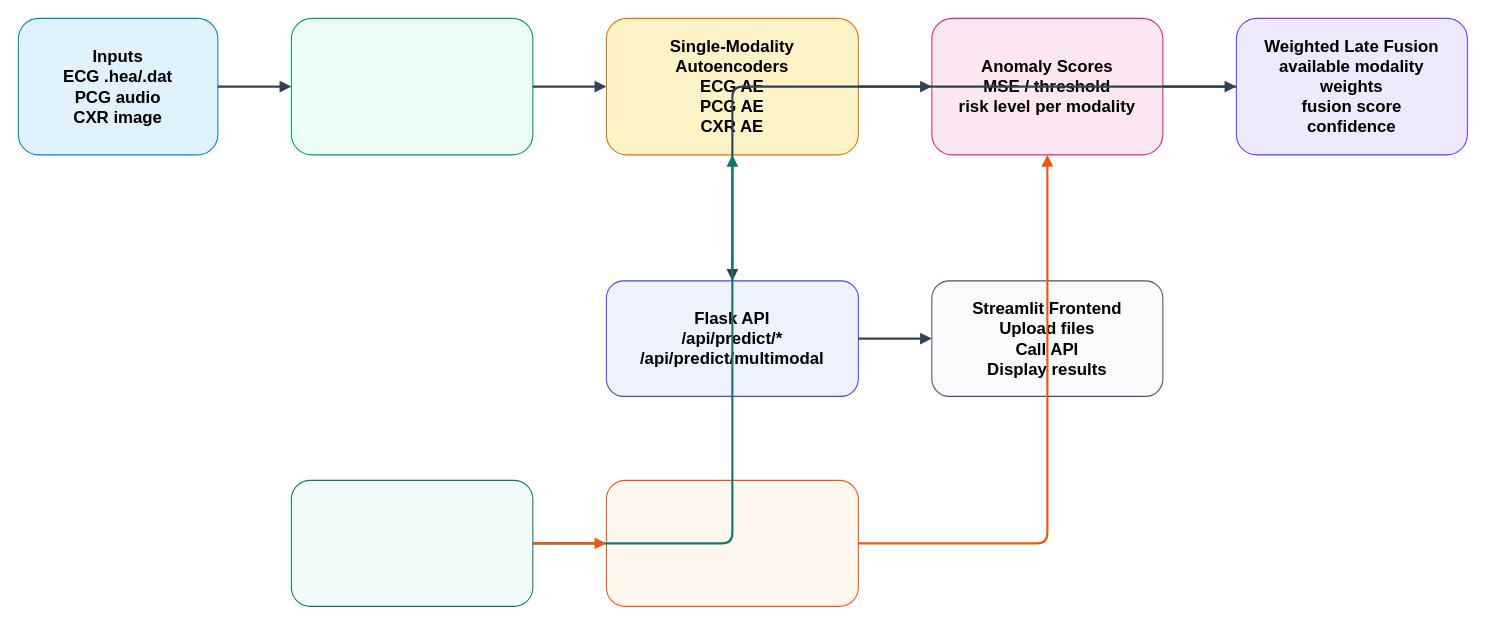
Some shapes in this 1486 by 625 pixel diagram are drawn without their labels. The centre of each missing label's shape, as x and y in pixels:
"Calibration / Test thresholds.npz held-out metrics" belongs at (x=731, y=542).
"Preprocessing ECG normalization MFCC extraction CXR resize/normalize" belongs at (x=411, y=86).
"Training Pipeline normal_ecg.npy normal_pcg.npy normal_cxr.npy" belongs at (x=411, y=542).
